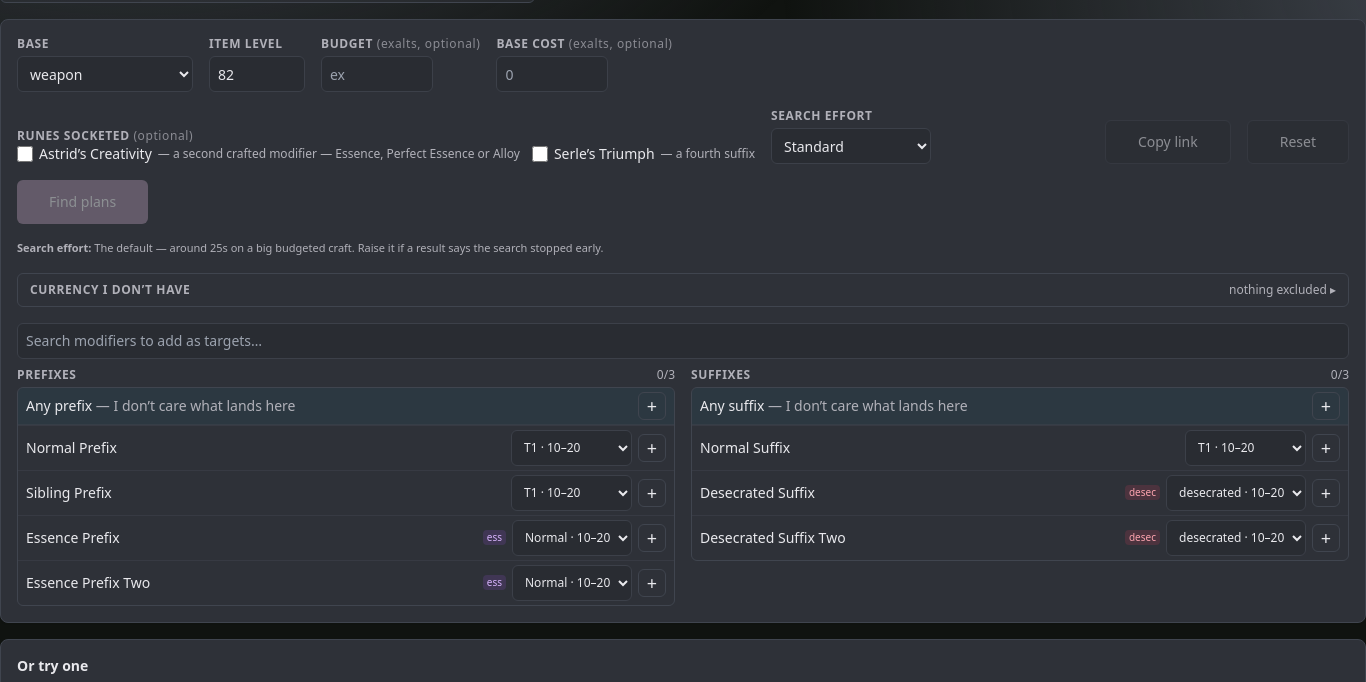
Test case: EngineLab — the true cost of a craft from scratch › shows the true expected cost and the route, not just the step frontier
This screenshot has width=1366, height=682.
Expected: the field with placeholder "Search modifiers to add as targets…" is shown, [17, 323, 1349, 359]
Click the button "+" in the row of "Normal Prefix" at point(652, 448), box [638, 434, 666, 462]
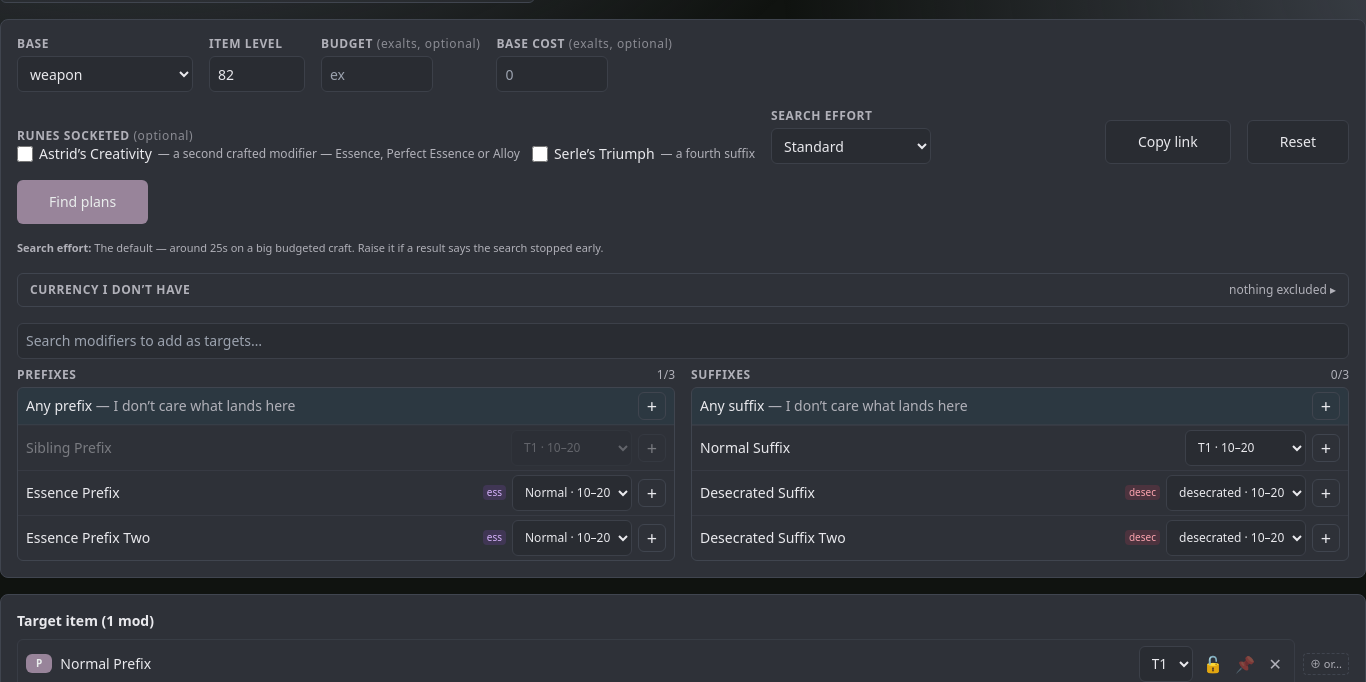
Click the button "Find plans" at point(83, 202), box [17, 180, 148, 224]
(page scrolled)
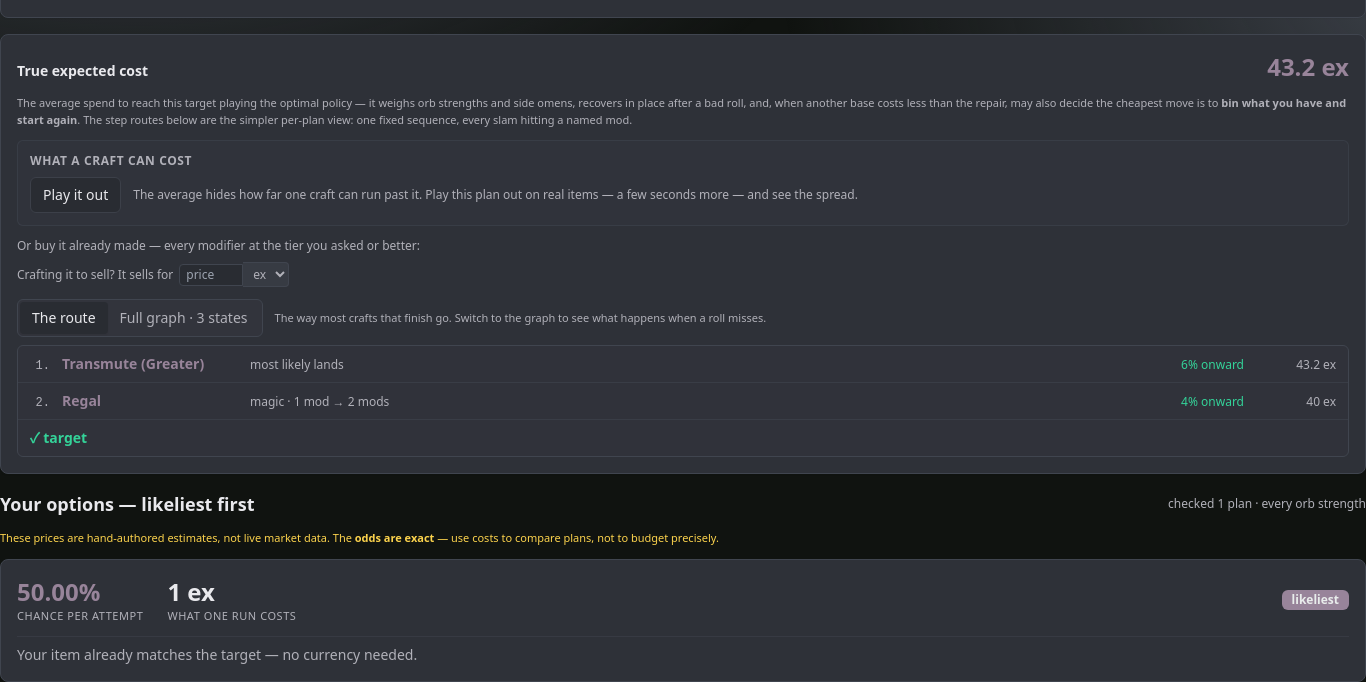
Expected: the heading "True expected cost" is shown, [17, 61, 148, 81]
Expected: the text "Transmute (Greater)" is shown, [62, 354, 204, 373]
